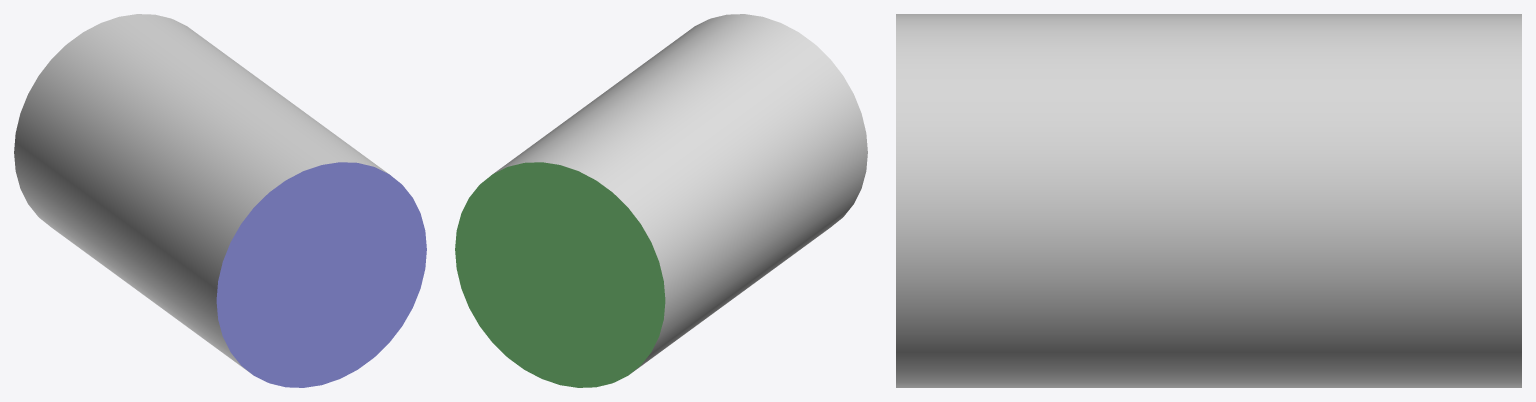
3 views of the same model, side by side, from view 1: azimuth 30°, elevation 25°; view 2: azimuth 150°, elevation 25°; view 3: azimuth 270°, elevation 25° (orthographic). The views are drawn at different scales.
Visible parts, largest first — view 1: Cylinder, Top; view 2: Cylinder, Bottom; view 3: Cylinder.
Boxes of the visible parts, x1=… form: Cylinder: x1=14, y1=14, x2=388, y2=373; Top: x1=216, y1=162, x2=426, y2=387; Cylinder: x1=493, y1=14, x2=867, y2=373; Bottom: x1=455, y1=162, x2=665, y2=387; Cylinder: x1=896, y1=14, x2=1521, y2=387.
Size of the model in its own units: 0.762 by 0.762 by 1.27.
